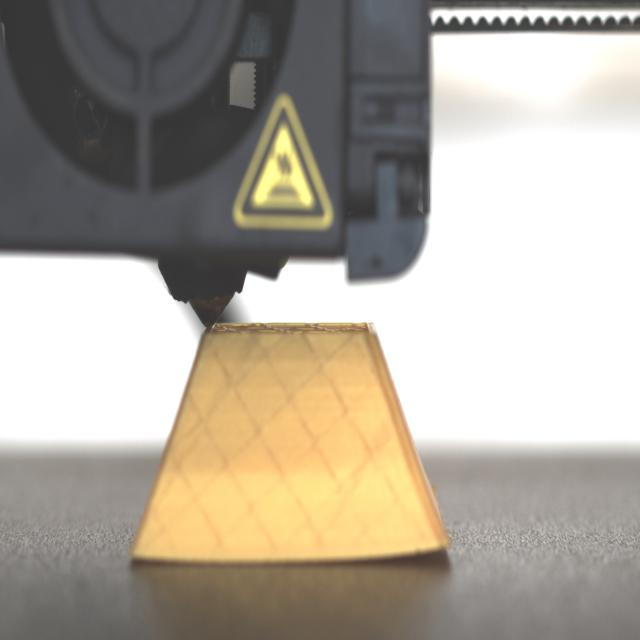Warping: (364, 536, 452, 568)
Without deffect: (110, 302, 478, 587)
